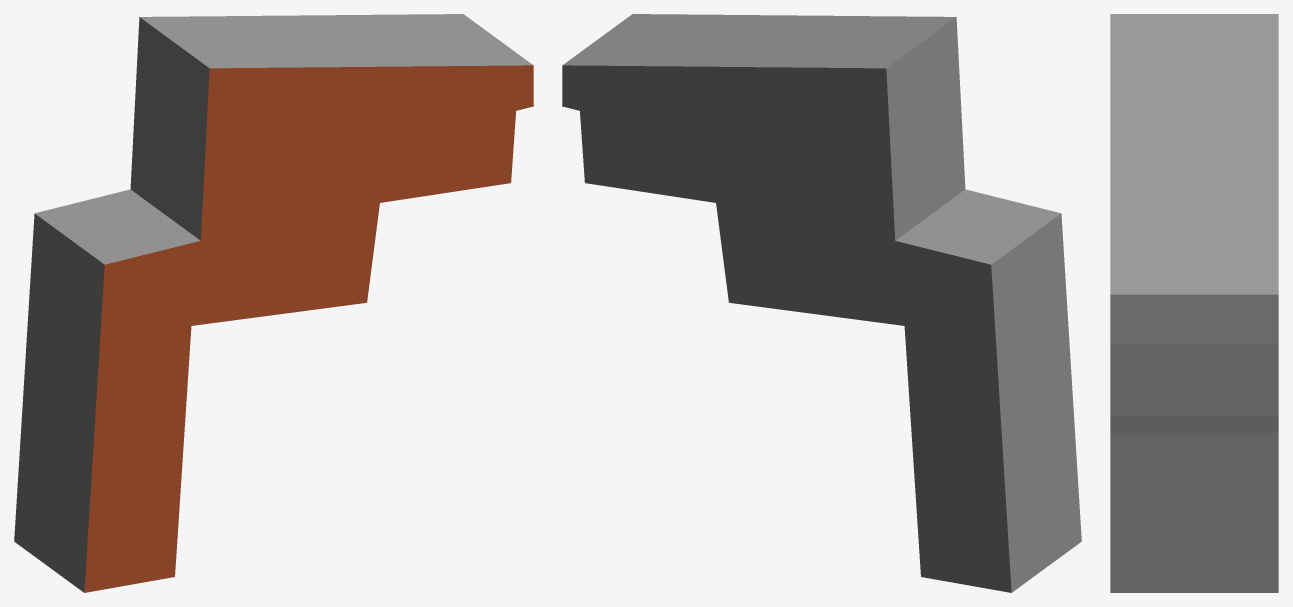
Rendered from construction_2845_assumed_A_Casa_h6m.obj.
3 views of the same model, side by side, from view 1: azimuth 30°, elevation 25°; view 2: azimuth 150°, elevation 25°; view 3: azimuth 270°, elevation 25° (orthographic). The views are drawn at different scales.
Parts seen in each view (by area): view 1: construction_2845_assumed_A_Casa; view 2: construction_2845_assumed_A_Casa; view 3: construction_2845_assumed_A_Casa.
Boxes of the visible parts, x1,y1,x2,y2 form: construction_2845_assumed_A_Casa: (14, 14, 533, 592); construction_2845_assumed_A_Casa: (562, 14, 1081, 592); construction_2845_assumed_A_Casa: (1110, 14, 1278, 592).
Bounding box in the file's own units: 22.17 × 23.58 × 6.
